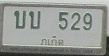txt21: (13, 10, 27, 30), (28, 10, 42, 30)
